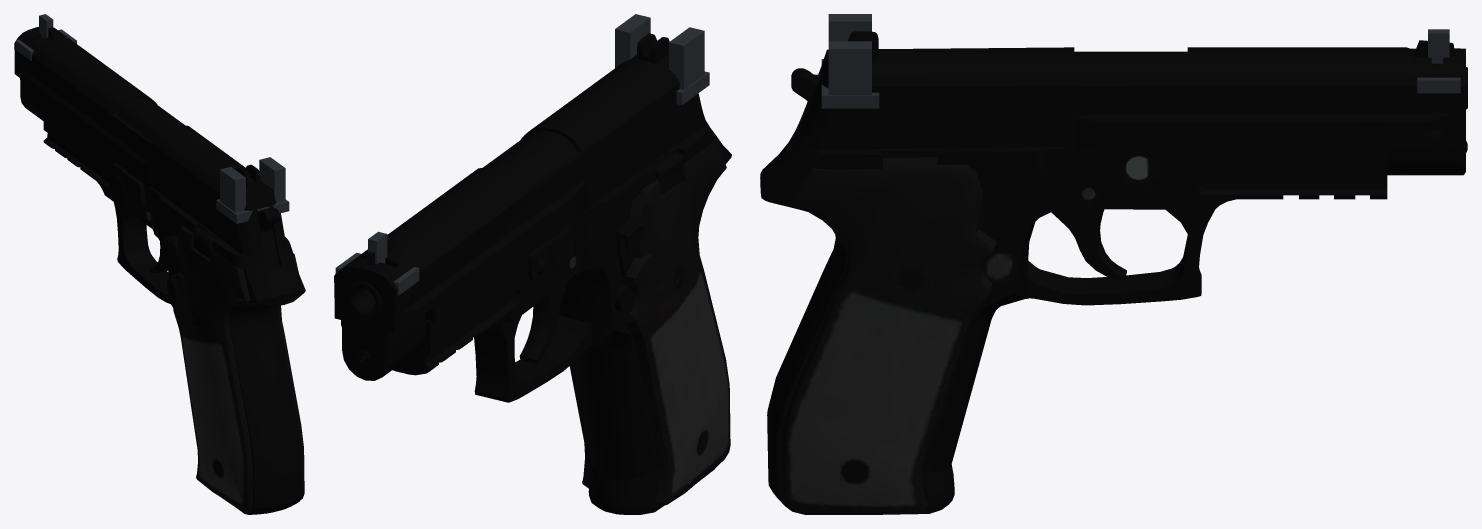
The picture shows the model from 3 angles, left to right: view 1: azimuth 30°, elevation 25°; view 2: azimuth 150°, elevation 25°; view 3: azimuth 270°, elevation 25°; orthographic projection. The views are drawn at different scales.
Parts seen in each view (by area): view 1: body, slide, rearsight; view 2: body, slide, rearsight, mag; view 3: body, slide, rearsight.
Part boxes in pixels (box(x1,y1,x2,y2)): body: box(43, 110, 305, 513); slide: box(14, 14, 286, 257); rearsight: box(216, 157, 289, 223); body: box(346, 120, 731, 506); slide: box(334, 33, 705, 380); rearsight: box(615, 14, 709, 105); mag: box(588, 469, 714, 514); body: box(760, 67, 1467, 514); slide: box(800, 29, 1465, 175); rearsight: box(821, 14, 879, 108).
Bounding box in the file's own units: 0.0325 × 0.1426 × 0.196.
Materials: 3 (1 with a texture image).
